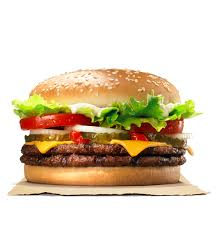hamburger: (15, 68, 190, 186)
